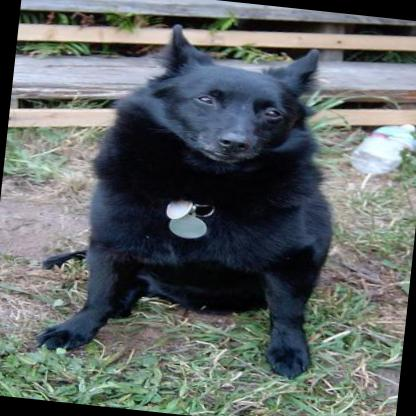schipperke: (22, 9, 368, 382)
